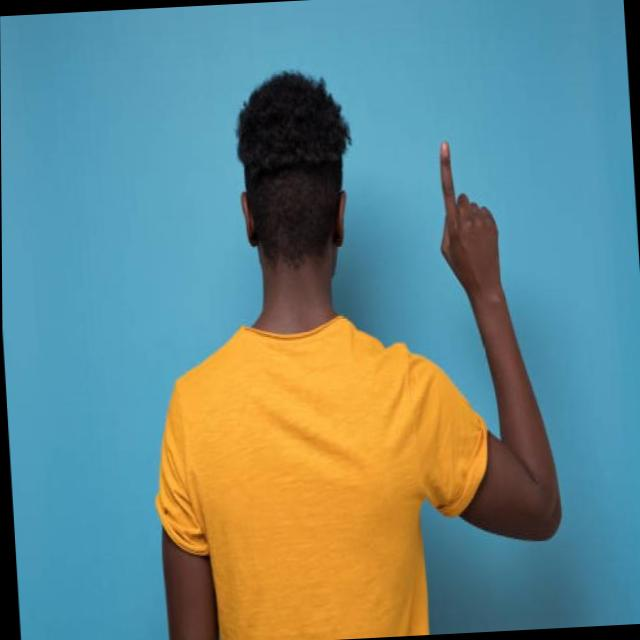no helmet: (226, 63, 365, 290)
